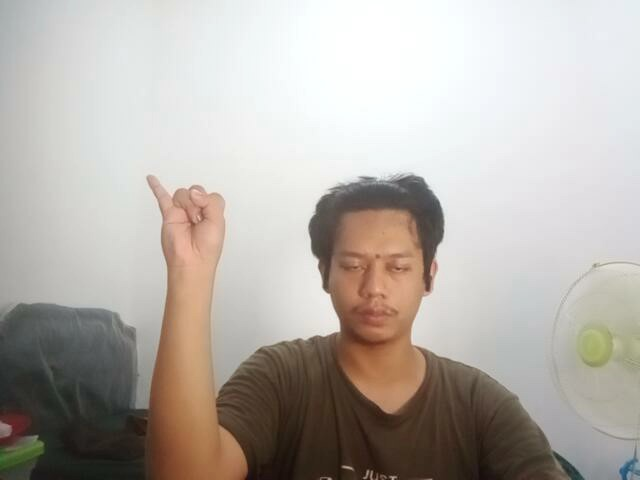I: (136, 157, 237, 271)
